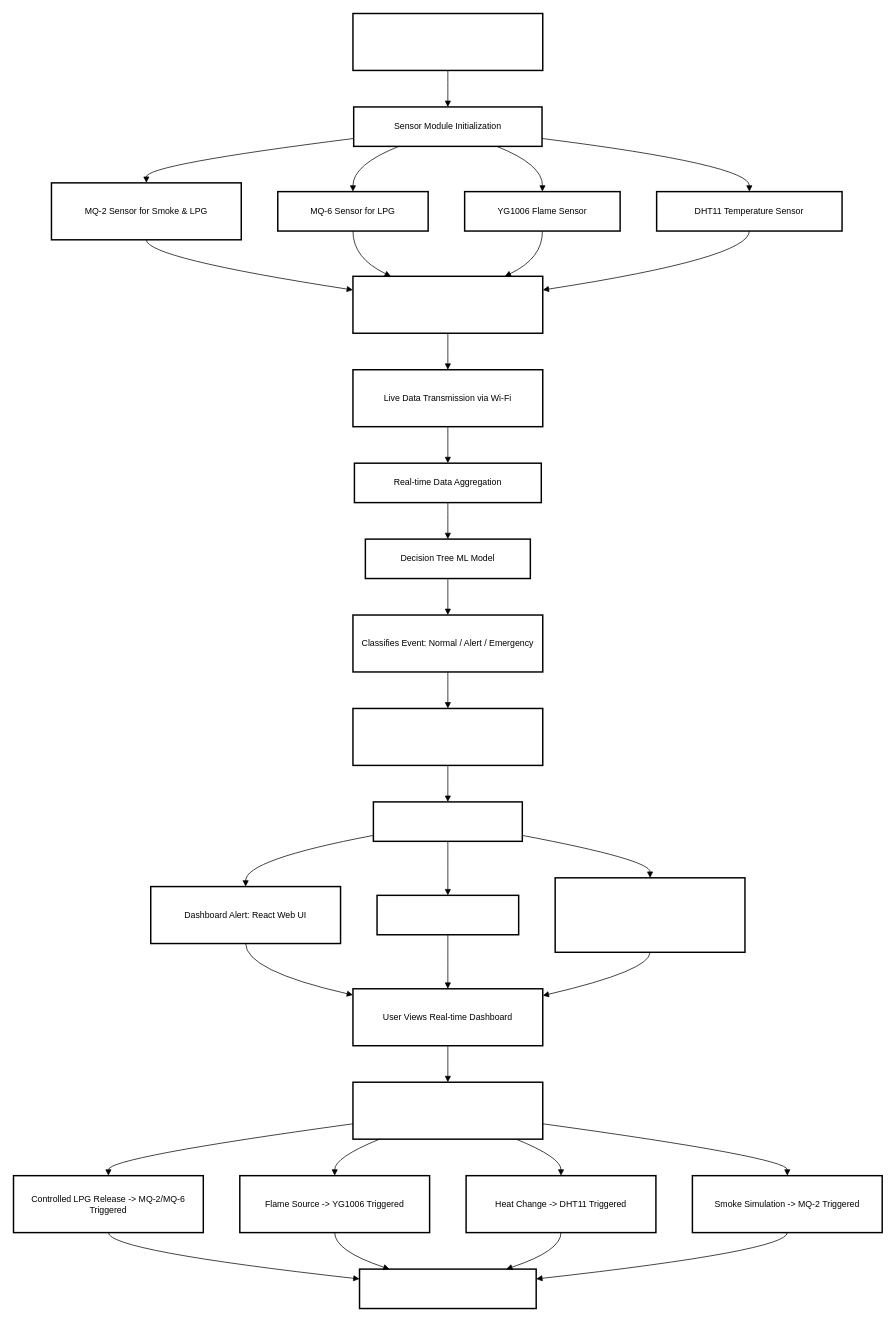
Some shapes in this 895 by 1321 pixel diagram are drawn without their labels. Each missing label, with the centre of its shape:
"Arduino Uno Receives All Sensor Inputs" belongs at (447,304).
"Color-Coded Alerts" belongs at (447,914).
"Dashboard Displays Alerts" belongs at (447,1288).
"Demo Phase: Chennai Kitchen Simulation" belongs at (447,1110).
"Minimizes False Alarms via Context Awareness" belongs at (447,736).
"Notification Alerts" belongs at (649,915).
"Start: MK Sentinel System Initialization" belongs at (447,41).
"Trigger Alert System" belongs at (447,821).
